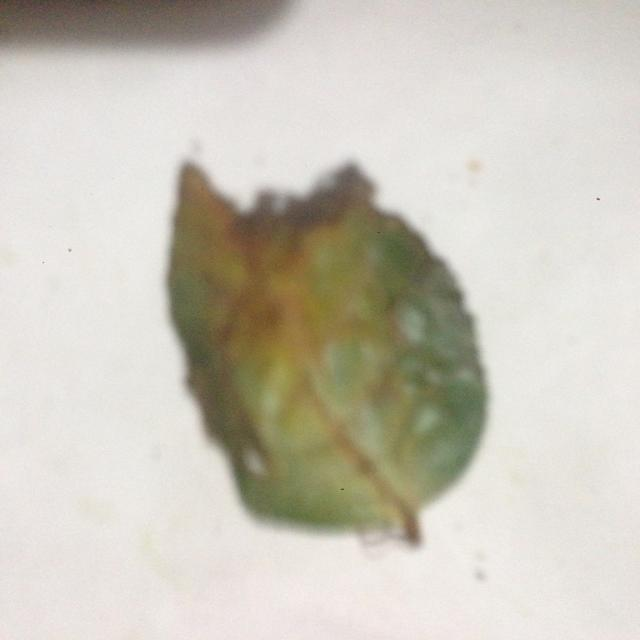Red Leaf Spot: (151, 174, 484, 558)
